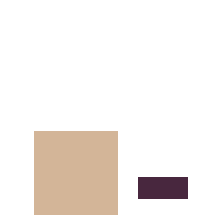rectangle: (34, 131, 117, 214), (138, 177, 187, 198)
